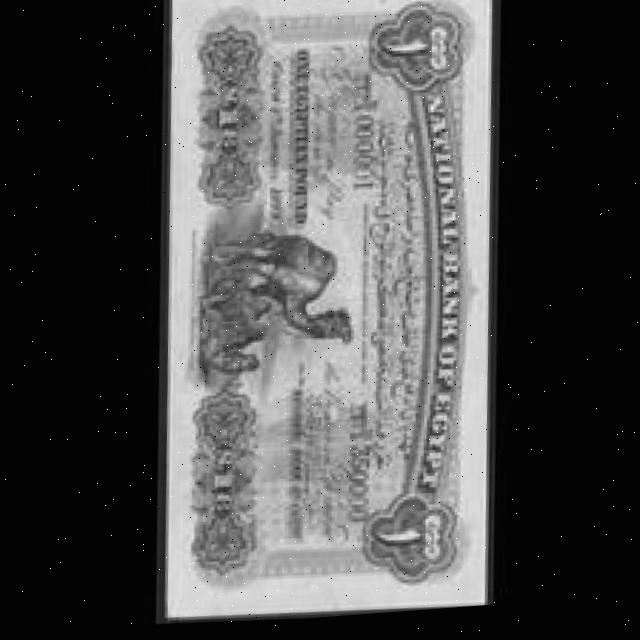banknote: (146, 0, 513, 631)
